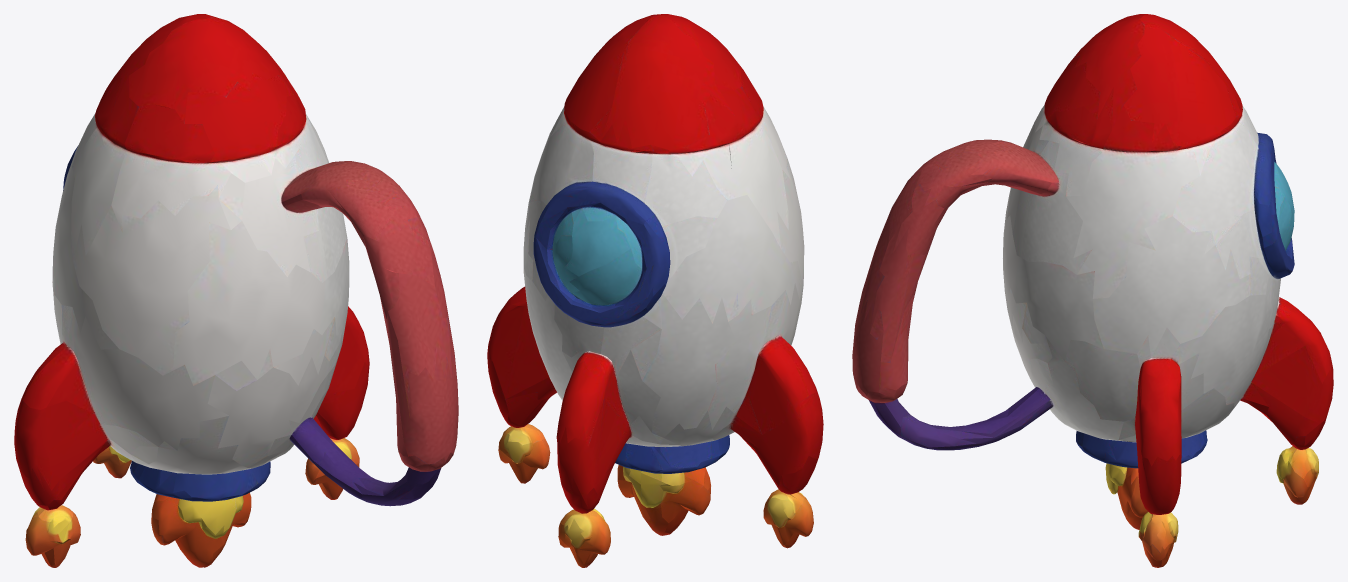
File: backpack_rocket.fbx
3 renders of one model, left to right at view 1: azimuth 30°, elevation 25°; view 2: azimuth 150°, elevation 25°; view 3: azimuth 270°, elevation 25°, orthographic. The views are drawn at different scales.
Parts seen in each view (by area): view 1: Mesh_0; view 2: Mesh_0; view 3: Mesh_0.
Part boxes in pixels (<box>): Mesh_0: <box>14,14,458,567</box>; Mesh_0: <box>487,14,823,567</box>; Mesh_0: <box>852,14,1333,567</box>.
Size of the model in its own units: 1.26 by 1.9 by 1.62.
Materials: 1 (1 with a texture image).
